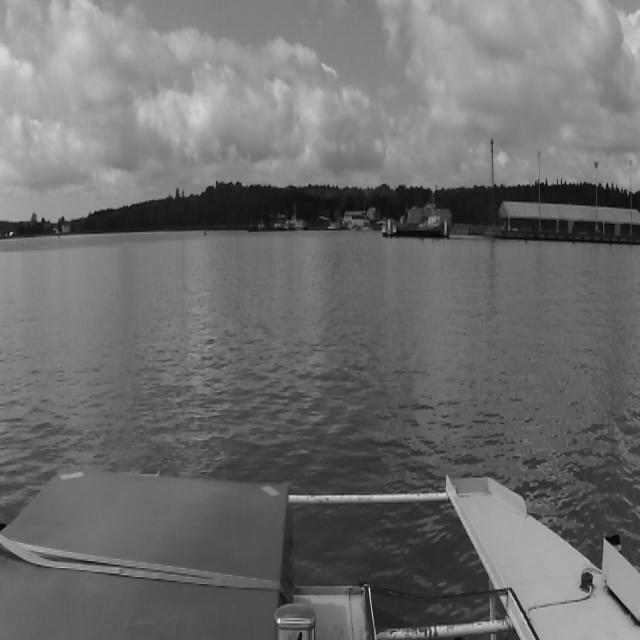buoy: (204, 227, 206, 236), (59, 234, 60, 238)
ship: (285, 198, 311, 235), (257, 218, 265, 230)
